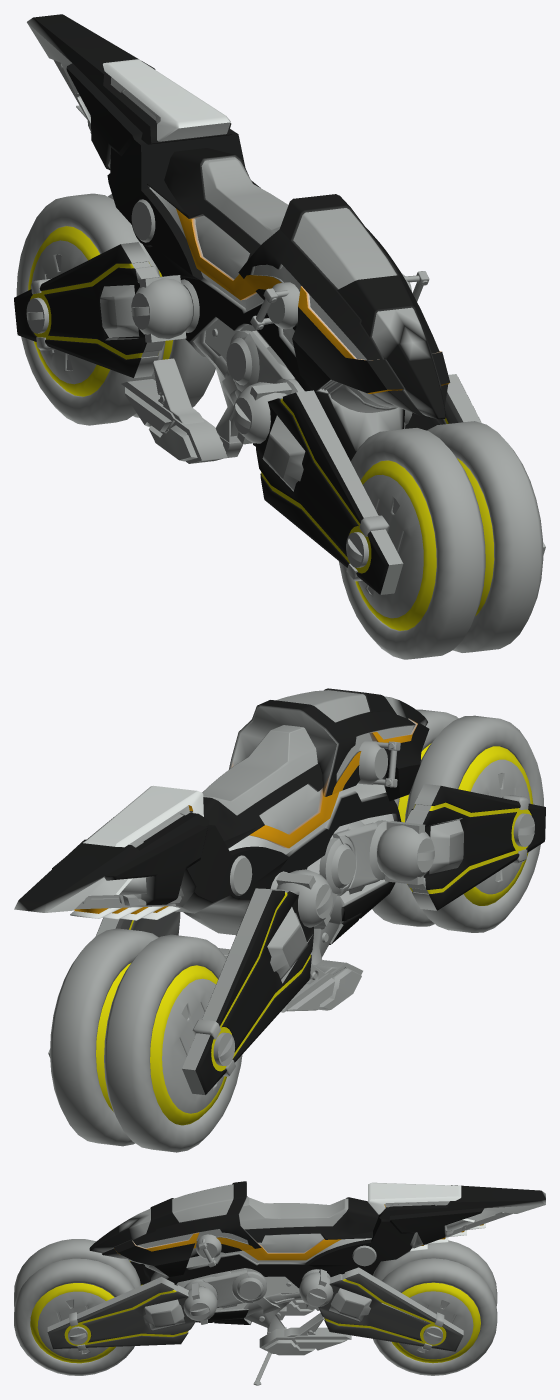
The picture shows the model from 3 angles, top to bottom: view 1: azimuth 30°, elevation 25°; view 2: azimuth 150°, elevation 25°; view 3: azimuth 270°, elevation 25°; orthographic projection. The views are drawn at different scales.
Parts seen in each view (by area): view 1: G:\FFXIV-MapTools\exports\x6t1\bg\ex5\01_xkt_x6\twn\x6t1\bgp; view 2: G:\FFXIV-MapTools\exports\x6t1\bg\ex5\01_xkt_x6\twn\x6t1\bgp; view 3: G:\FFXIV-MapTools\exports\x6t1\bg\ex5\01_xkt_x6\twn\x6t1\bgp.
Boxes of the visible parts, box(x1,y1,x2,y2) form: G:\FFXIV-MapTools\exports\x6t1\bg\ex5\01_xkt_x6\twn\x6t1\bgp: box(14, 14, 545, 659); G:\FFXIV-MapTools\exports\x6t1\bg\ex5\01_xkt_x6\twn\x6t1\bgp: box(14, 688, 545, 1152); G:\FFXIV-MapTools\exports\x6t1\bg\ex5\01_xkt_x6\twn\x6t1\bgp: box(14, 1181, 545, 1385).
Size of the model in its own units: 0.6465 by 1.03 by 2.65.
